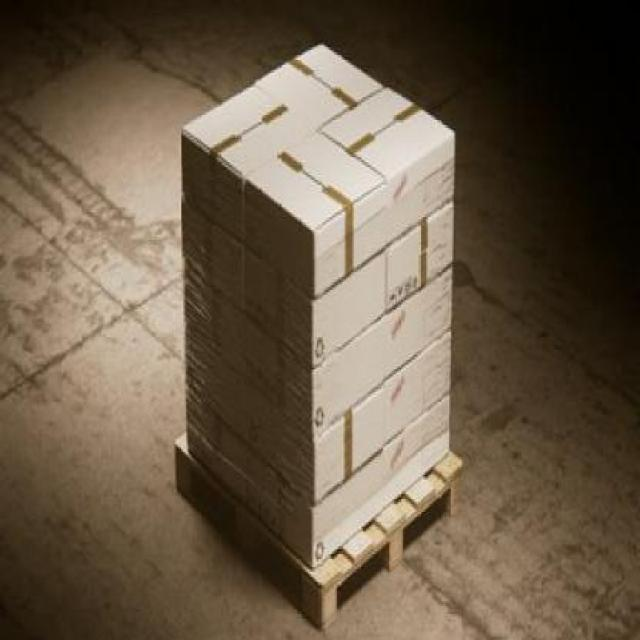box: (174, 32, 472, 602)
